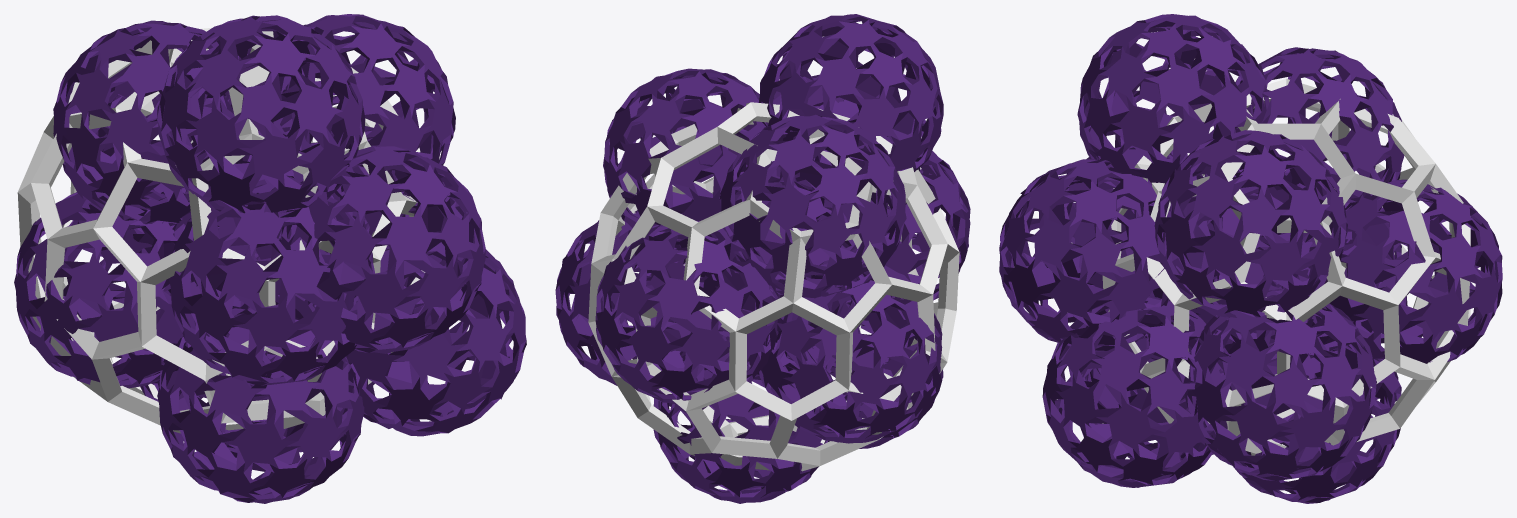
The model's file is HexagonalEnemy3.fbx.
3 renders of one model, left to right at view 1: azimuth 30°, elevation 25°; view 2: azimuth 150°, elevation 25°; view 3: azimuth 270°, elevation 25°, orthographic. The views are drawn at different scales.
Parts seen in each view (by area): view 1: Wireframe.002, Wireframe.005, Wireframe.001, Wireframe.011, Wireframe.012, Wireframe.006, Wireframe.004, Wireframe.010, Wireframe.003, Wireframe, Wireframe.009, Wireframe.008; view 2: Wireframe.001, Wireframe.004, Wireframe.009, Wireframe.002, Wireframe.010, Wireframe.003, Wireframe.008, Wireframe.007, Wireframe.011, Wireframe, Wireframe.012, Wireframe.005; view 3: Wireframe.003, Wireframe.001, Wireframe.007, Wireframe.006, Wireframe.002, Wireframe.005, Wireframe.009, Wireframe.004, Wireframe.008, Wireframe, Wireframe.011, Wireframe.012 (+1 smaller).
Part boxes in pixels (<box>): Wireframe.002: <box>157,15,365,217</box>; Wireframe.005: <box>279,146,485,353</box>; Wireframe.001: <box>17,27,425,433</box>; Wireframe.011: <box>169,179,375,385</box>; Wireframe.012: <box>157,299,364,503</box>; Wireframe.006: <box>336,242,526,436</box>; Wireframe.004: <box>53,20,258,226</box>; Wireframe.010: <box>14,189,195,388</box>; Wireframe.003: <box>272,14,455,219</box>; Wireframe: <box>163,144,366,319</box>; Wireframe.009: <box>98,84,212,253</box>; Wireframe.008: <box>140,255,304,452</box>; Wireframe.001: <box>588,102,959,471</box>; Wireframe.004: <box>719,114,906,298</box>; Wireframe.009: <box>595,221,779,404</box>; Wireframe.002: <box>759,14,943,189</box>; Wireframe.010: <box>759,259,942,443</box>; Wireframe.003: <box>603,68,780,248</box>; Wireframe.008: <box>653,335,833,503</box>; Wireframe.007: <box>555,210,723,385</box>; Wireframe.011: <box>807,136,970,304</box>; Wireframe: <box>699,169,855,346</box>; Wireframe.012: <box>762,301,943,448</box>; Wireframe.005: <box>735,74,890,209</box>; Wireframe.003: <box>1154,130,1347,320</box>; Wireframe.001: <box>1102,78,1470,455</box>; Wireframe.007: <box>1183,288,1377,480</box>; Wireframe.006: <box>1042,296,1235,487</box>; Wireframe.002: <box>1077,14,1269,203</box>; Wireframe.005: <box>999,159,1184,351</box>; Wireframe.009: <box>1329,179,1502,364</box>; Wireframe.004: <box>1212,47,1404,233</box>; Wireframe.008: <box>1233,330,1401,503</box>; Wireframe: <box>1149,186,1316,360</box>; Wireframe.011: <box>1045,145,1222,311</box>; Wireframe.012: <box>1083,314,1246,459</box>.
Bounding box in the file's own units: 228 × 253 × 256.
